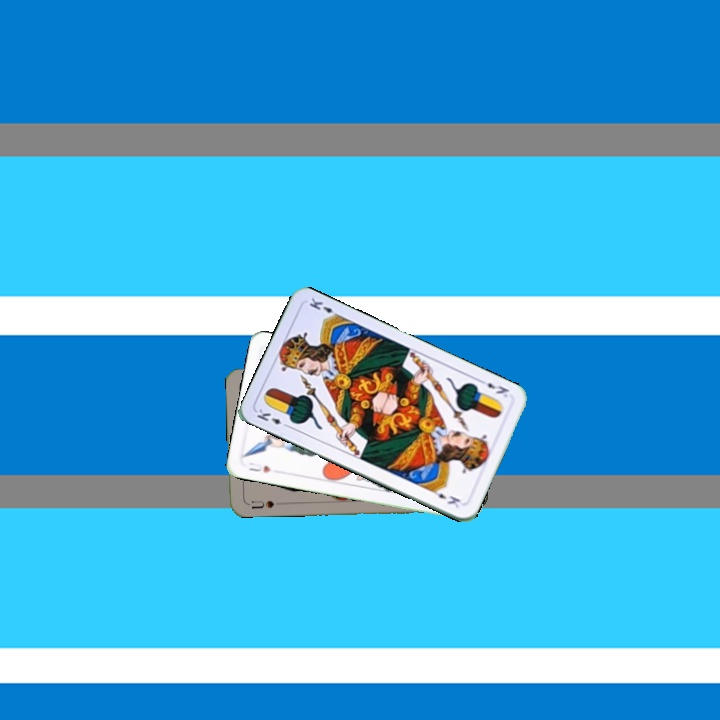EK: (253, 405, 292, 430), (476, 376, 511, 400)
HU: (245, 458, 274, 475)
SU: (243, 496, 283, 511)
